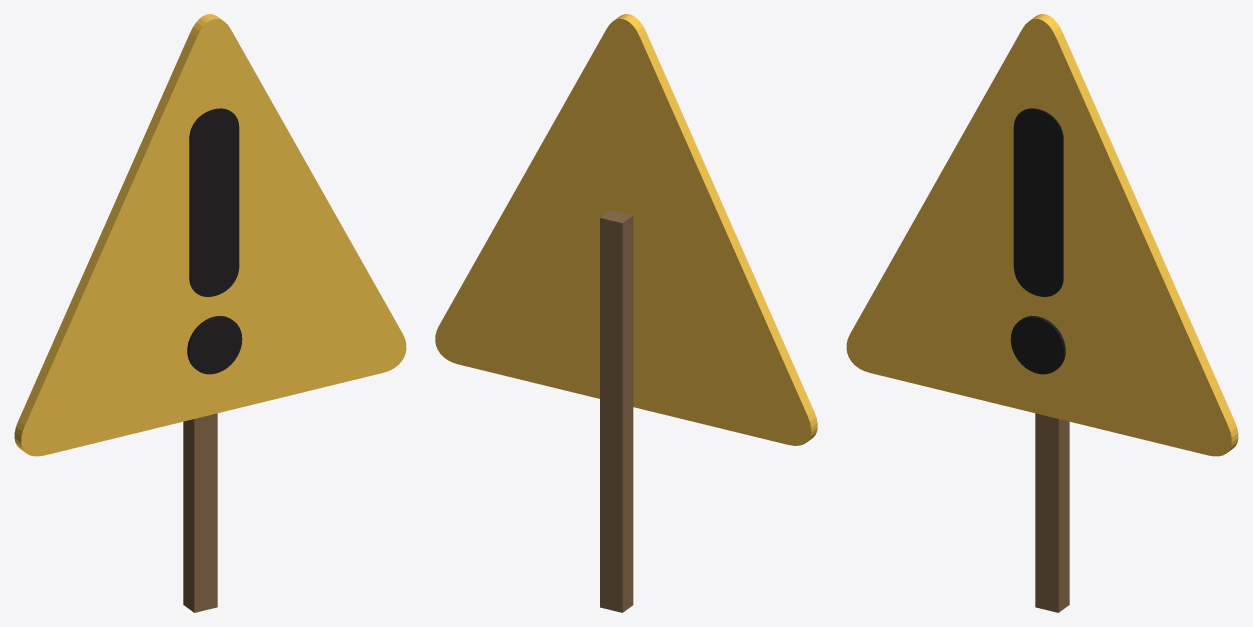
The model's file is attention.glb.
The picture shows the model from 3 angles, left to right: view 1: azimuth 30°, elevation 25°; view 2: azimuth 150°, elevation 25°; view 3: azimuth 330°, elevation 25°; orthographic projection. The views are drawn at different scales.
Bounding box in the file's own units: 1 × 1.48 × 0.093.
